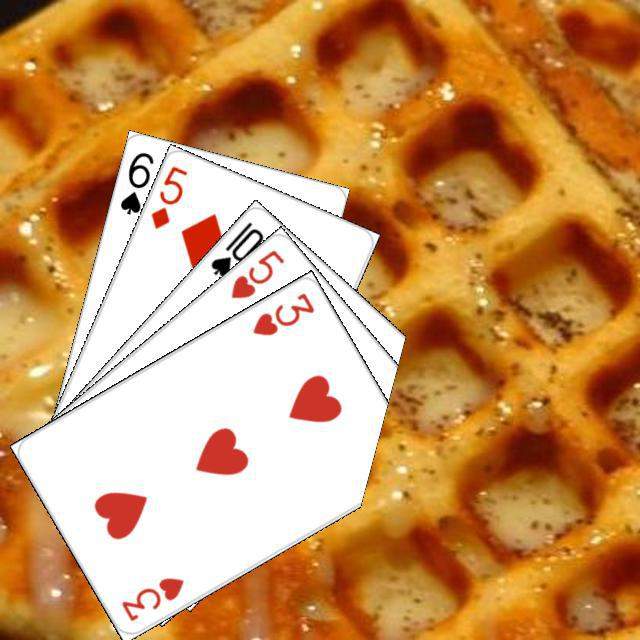10s: (205, 216, 266, 279)
3h: (116, 572, 186, 624), (247, 287, 317, 338)
5d: (145, 161, 190, 231)
5h: (225, 245, 286, 301)
6s: (115, 147, 155, 216)
